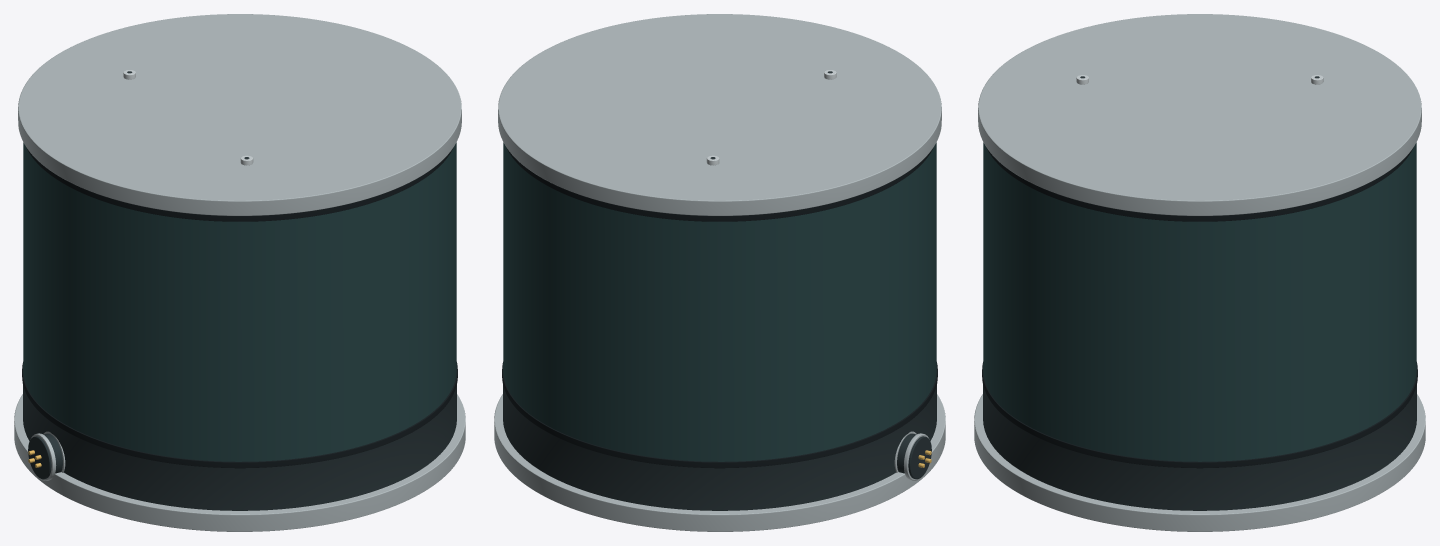
The model's file is LD016-engineering.glb.
The picture shows the model from 3 angles, left to right: view 1: azimuth 30°, elevation 25°; view 2: azimuth 150°, elevation 25°; view 3: azimuth 270°, elevation 25°; orthographic projection.
Visible parts, largest first — view 1: ir_window__Infrared_Window.005, top_lid__BeadBlasted_Aluminium.005, housing_base__Anodised_Graphite.005, housing_base__BeadBlasted_Aluminium.005, ir_window__Silicone_Seal.005; view 2: ir_window__Infrared_Window.005, top_lid__BeadBlasted_Aluminium.005, housing_base__Anodised_Graphite.005, housing_base__BeadBlasted_Aluminium.005, ir_window__Silicone_Seal.005; view 3: ir_window__Infrared_Window.005, top_lid__BeadBlasted_Aluminium.005, housing_base__Anodised_Graphite.005, housing_base__BeadBlasted_Aluminium.005, ir_window__Silicone_Seal.005.
Boxes of the visible parts, x1=… form: ir_window__Infrared_Window.005: x1=23, y1=142, x2=456, y2=461; top_lid__BeadBlasted_Aluminium.005: x1=18, y1=14, x2=461, y2=215; housing_base__Anodised_Graphite.005: x1=23, y1=385, x2=456, y2=510; housing_base__BeadBlasted_Aluminium.005: x1=14, y1=394, x2=465, y2=531; ir_window__Silicone_Seal.005: x1=22, y1=147, x2=457, y2=468; ir_window__Infrared_Window.005: x1=503, y1=142, x2=936, y2=461; top_lid__BeadBlasted_Aluminium.005: x1=498, y1=14, x2=941, y2=215; housing_base__Anodised_Graphite.005: x1=503, y1=385, x2=936, y2=510; housing_base__BeadBlasted_Aluminium.005: x1=494, y1=394, x2=945, y2=531; ir_window__Silicone_Seal.005: x1=502, y1=147, x2=937, y2=468; ir_window__Infrared_Window.005: x1=983, y1=142, x2=1416, y2=461; top_lid__BeadBlasted_Aluminium.005: x1=978, y1=14, x2=1421, y2=215; housing_base__Anodised_Graphite.005: x1=983, y1=385, x2=1416, y2=510; housing_base__BeadBlasted_Aluminium.005: x1=974, y1=394, x2=1425, y2=531; ir_window__Silicone_Seal.005: x1=982, y1=147, x2=1417, y2=468.
Bounding box in the file's own units: 0.1062 × 0.0841 × 0.103.
